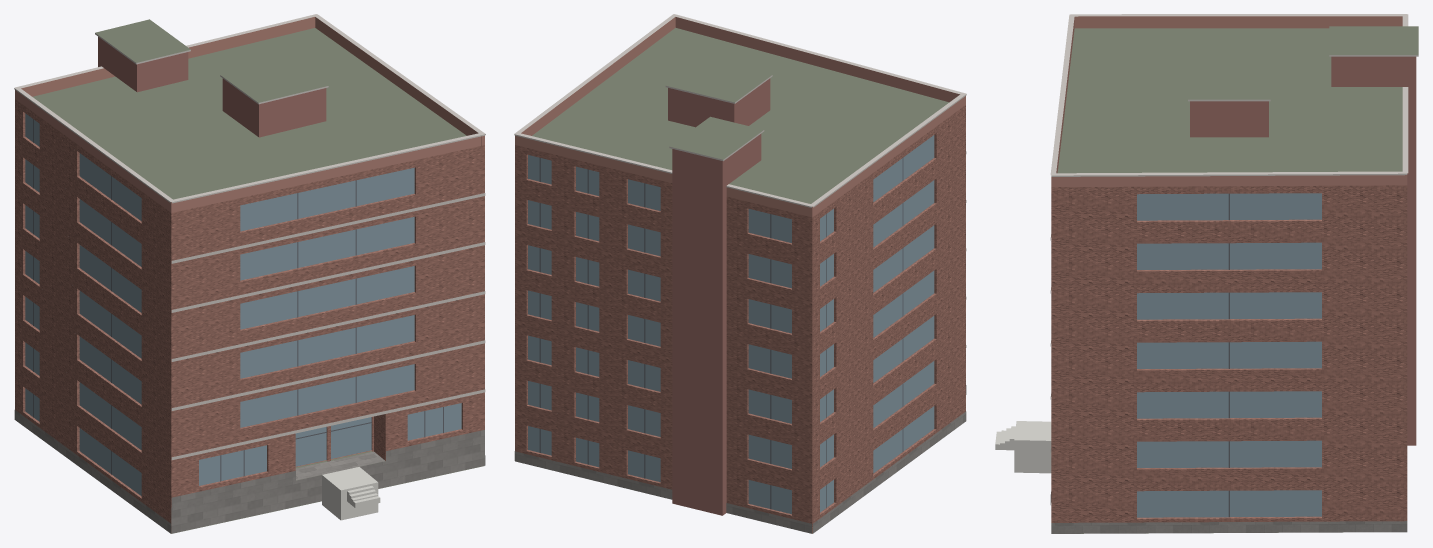
3 views of the same model, side by side, from view 1: azimuth 30°, elevation 25°; view 2: azimuth 150°, elevation 25°; view 3: azimuth 270°, elevation 25° (orthographic). The views are drawn at different scales.
Visible parts, largest first — view 1: doosan8__wall, doosan8__glass, doosan8__roof, doosan8__base, doosan8__trim, doosan8__parapet, doosan8__wall2, doosan8__entranceStair, doosan8__frame; view 2: doosan8__wall, doosan8__roof, doosan8__glass, doosan8__wall2, doosan8__parapet, doosan8__base, doosan8__trim, doosan8__frame; view 3: doosan8__wall, doosan8__roof, doosan8__glass, doosan8__wall2, doosan8__parapet, doosan8__trim, doosan8__base, doosan8__entranceStair.
Part boxes in pixels (box(x1,y1,x2,y2)): doosan8__wall: box(15, 99, 484, 533); doosan8__glass: box(25, 113, 461, 495); doosan8__roof: box(32, 19, 483, 533); doosan8__base: box(14, 410, 485, 533); doosan8__trim: box(14, 14, 485, 460); doosan8__parapet: box(15, 17, 484, 212); doosan8__wall2: box(98, 37, 326, 137); doosan8__entranceStair: box(322, 467, 380, 520); doosan8__frame: box(33, 119, 443, 481); doosan8__wall: box(515, 105, 965, 533); doosan8__roof: box(532, 27, 948, 533); doosan8__glass: box(528, 135, 934, 514); doosan8__wall2: box(668, 78, 770, 515); doosan8__parapet: box(515, 17, 965, 217); doosan8__base: box(514, 385, 966, 533); doosan8__trim: box(514, 14, 966, 347); doosan8__frame: box(539, 158, 903, 509); doosan8__wall: box(1051, 185, 1407, 522); doosan8__roof: box(1057, 26, 1418, 533); doosan8__glass: box(1137, 193, 1321, 517); doosan8__wall2: box(1190, 56, 1416, 445); doosan8__parapet: box(1051, 16, 1407, 187); doosan8__trim: box(1050, 14, 1418, 452); doosan8__base: box(1050, 492, 1407, 533); doosan8__entranceStair: box(995, 421, 1051, 473).
Bounding box in the file's own units: 25.2 × 28.77 × 27.91.
10 materials, 2 textured.
